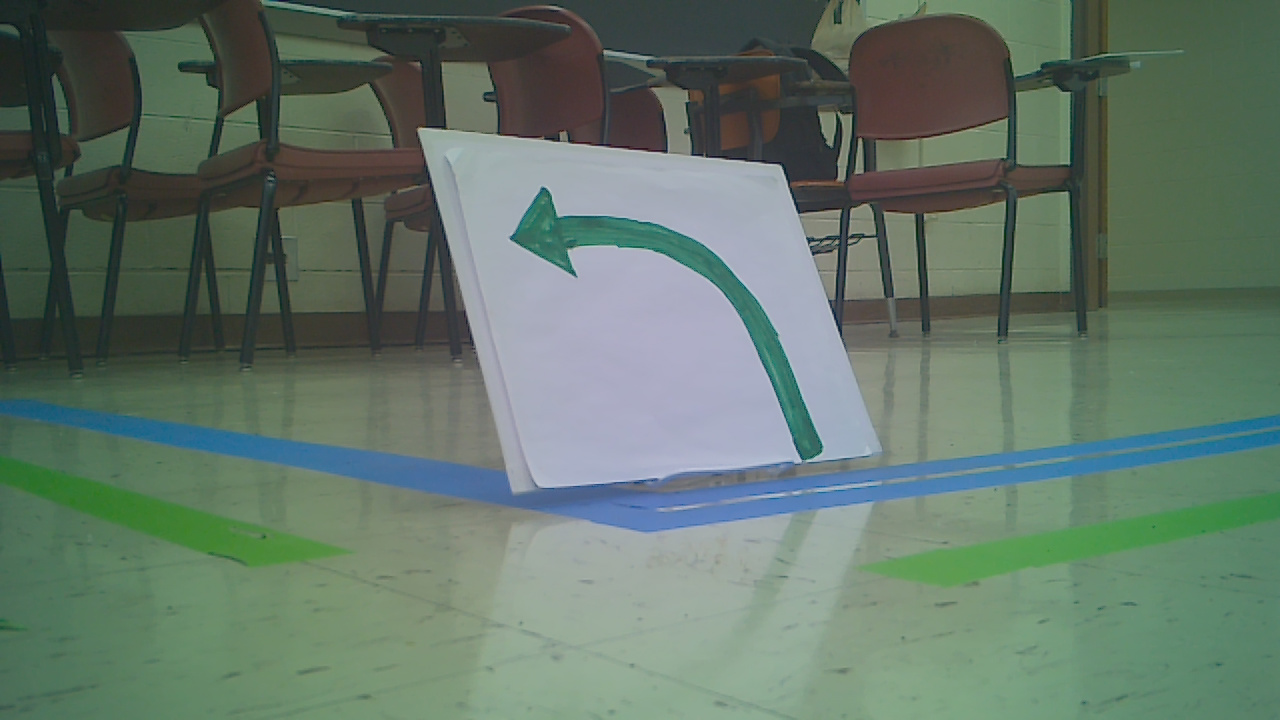left: (500, 187, 827, 460)
